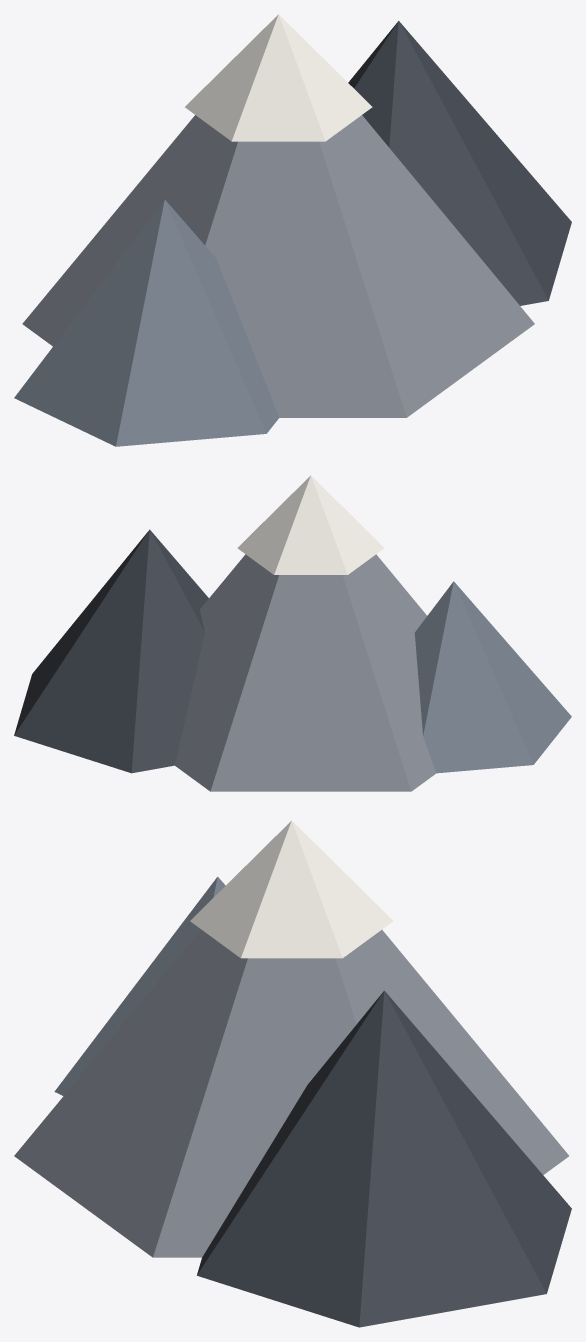
The model's file is mountain.glb.
The picture shows the model from 3 angles, top to bottom: view 1: azimuth 30°, elevation 25°; view 2: azimuth 150°, elevation 25°; view 3: azimuth 270°, elevation 25°; orthographic projection. The views are drawn at different scales.
Visible parts, largest first — view 1: mountain; view 2: mountain; view 3: mountain.
Part boxes in pixels (x1,y1,x2,y2): mountain: (14, 14, 571, 446); mountain: (14, 475, 571, 791); mountain: (14, 820, 571, 1327).
Bounding box in the file's own units: 8.09 × 4 × 6.03.
Materials: 1 (1 with a texture image).
